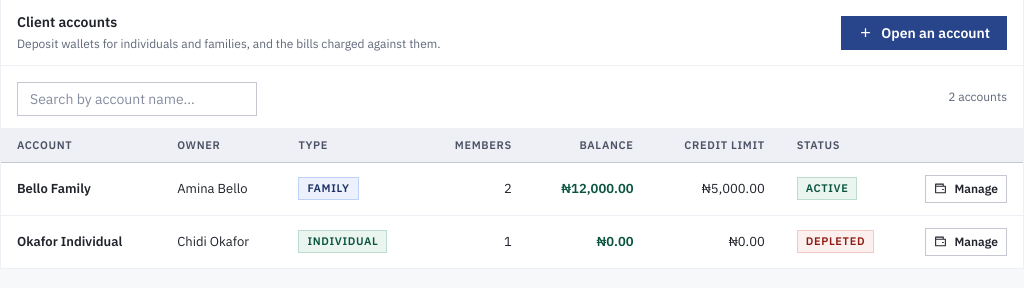
it: the wallet directory › says so when a search matches nothing, and offers a way back
In the search field named "Search accounts": (137, 99) [17,82,257,116], type "zzzz"
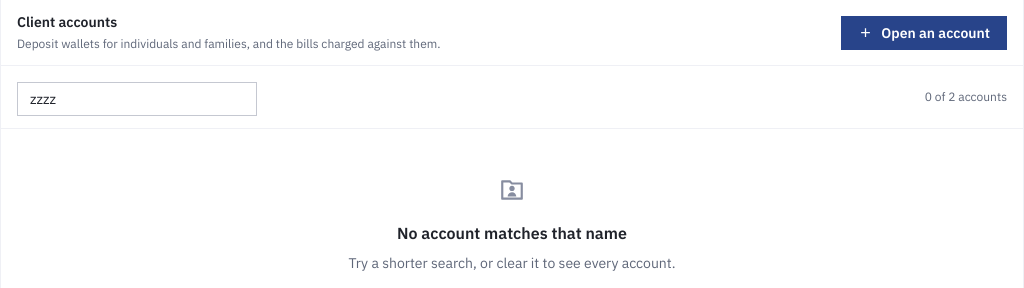
Check: the text "No account matches that name" is shown, box [397,221,627,245]
